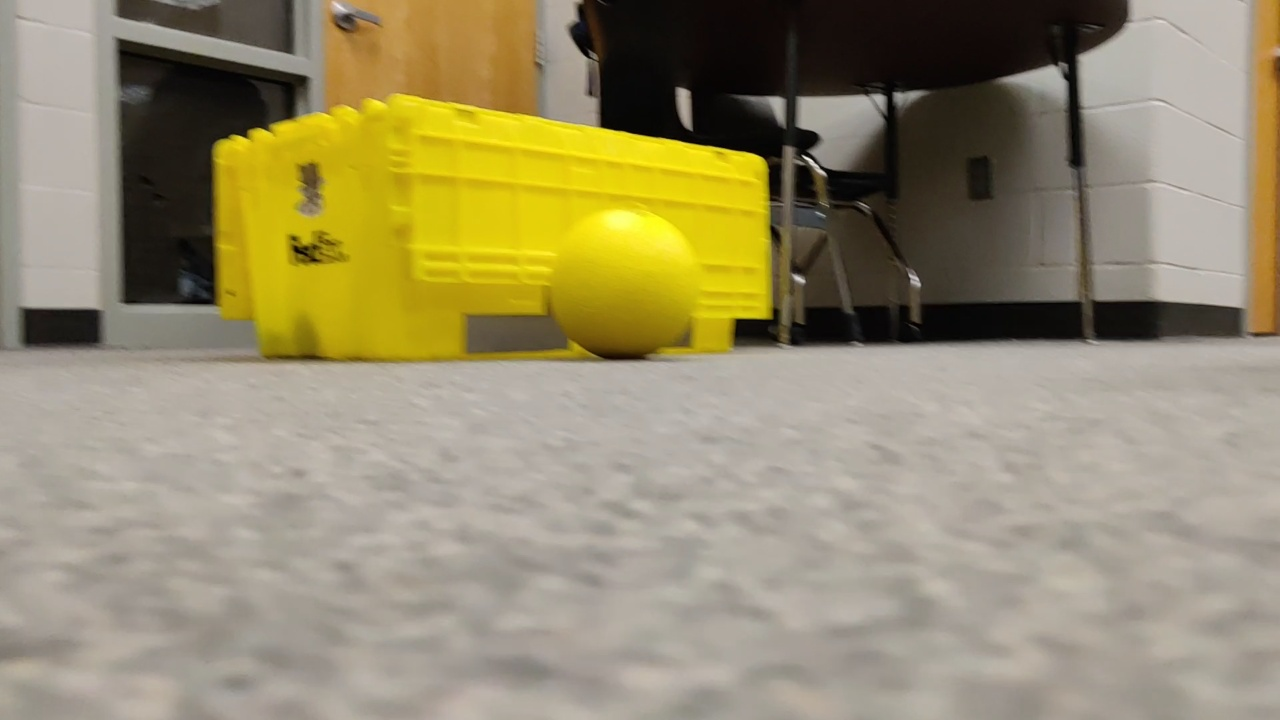Ball: (554, 207, 696, 349)
